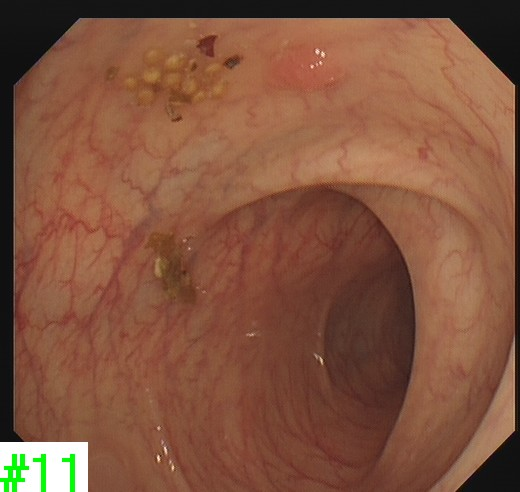adenoma: (263, 39, 353, 91)
